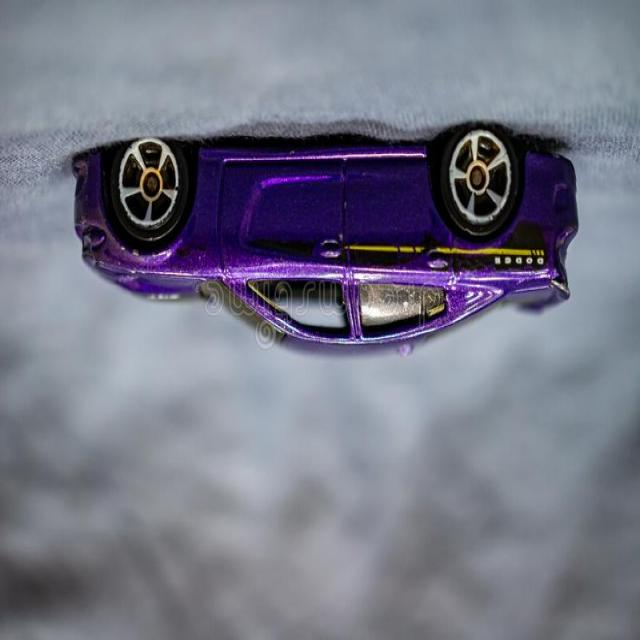Car: (72, 122, 579, 358)
